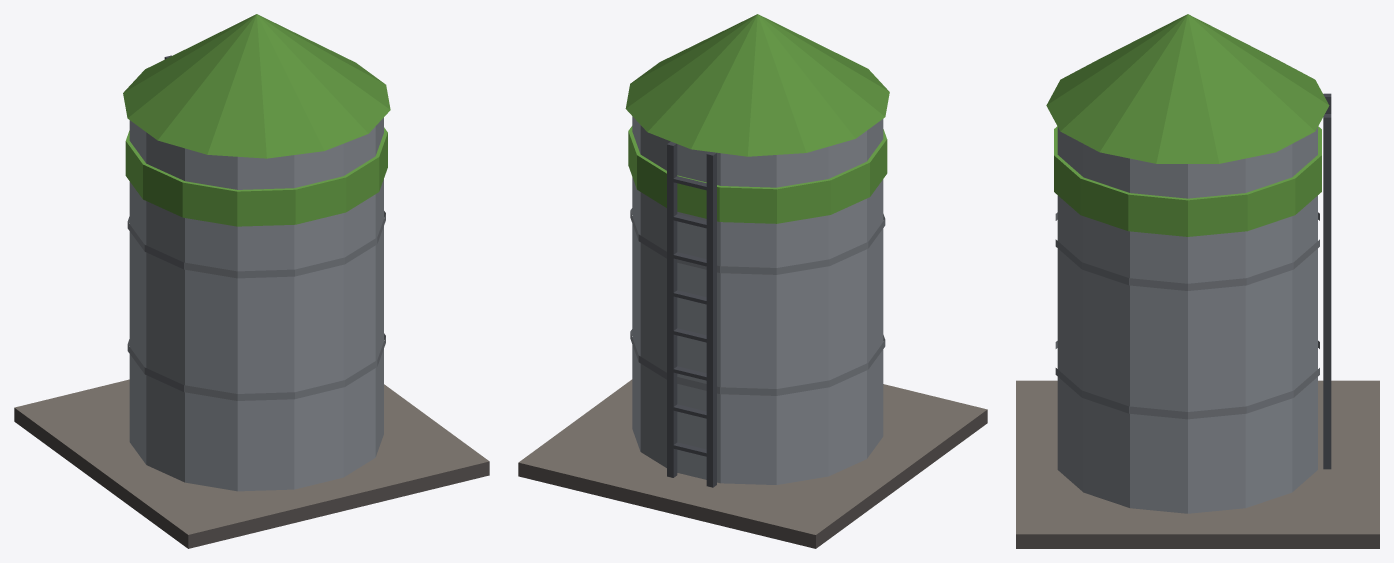
Rendered from silo.glb.
3 renders of one model, left to right at view 1: azimuth 30°, elevation 25°; view 2: azimuth 150°, elevation 25°; view 3: azimuth 270°, elevation 25°, orthographic. The views are drawn at different scales.
Visible parts, largest first — view 1: silo; view 2: silo; view 3: silo.
Part boxes in pixels (x1=…): silo: x1=14, y1=14, x2=489, y2=548; silo: x1=518, y1=14, x2=987, y2=548; silo: x1=1016, y1=14, x2=1379, y2=548.
Bounding box in the file's own units: 1.8 × 2.5 × 1.8.
